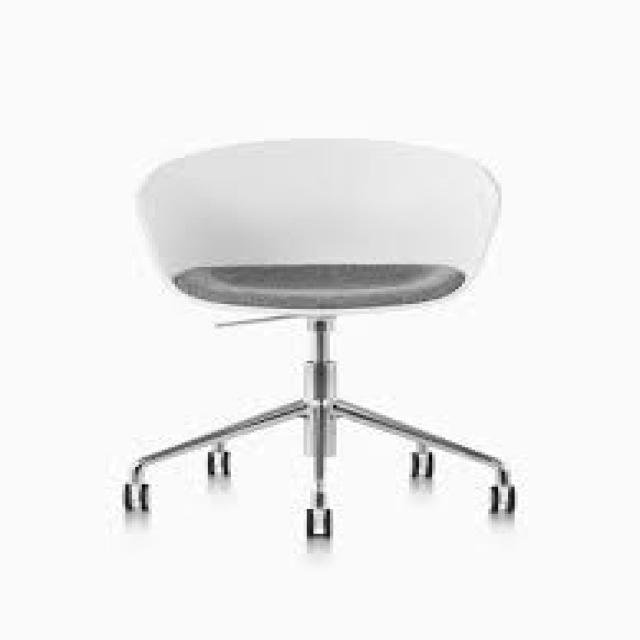chair: (2, 103, 579, 618)
